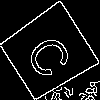C: (23, 26, 82, 83)
